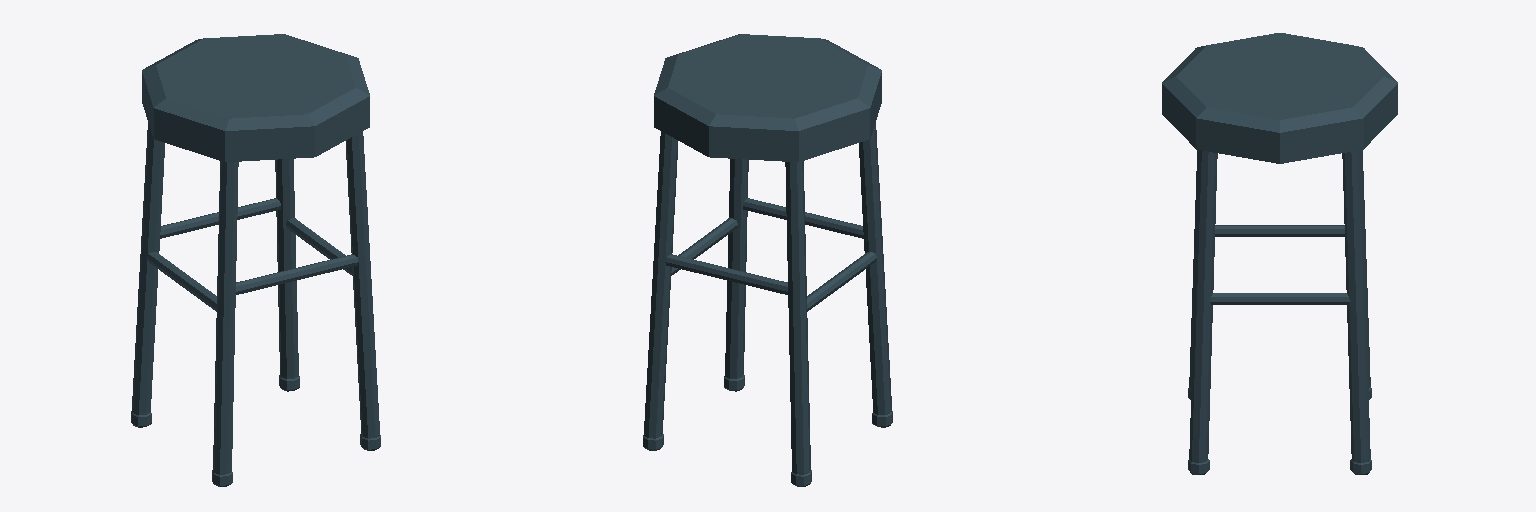
The model's file is Stool_01.obj.
3 renders of one model, left to right at view 1: azimuth 30°, elevation 25°; view 2: azimuth 150°, elevation 25°; view 3: azimuth 270°, elevation 25°, orthographic.
Parts seen in each view (by area): view 1: Stool_01_Cube.033; view 2: Stool_01_Cube.033; view 3: Stool_01_Cube.033.
Part boxes in pixels (x1,y1,x2,y2): Stool_01_Cube.033: (131,34,380,486); Stool_01_Cube.033: (643,34,892,486); Stool_01_Cube.033: (1162,33,1397,474).
Bounding box in the file's own units: 5.93 × 9.93 × 5.93.